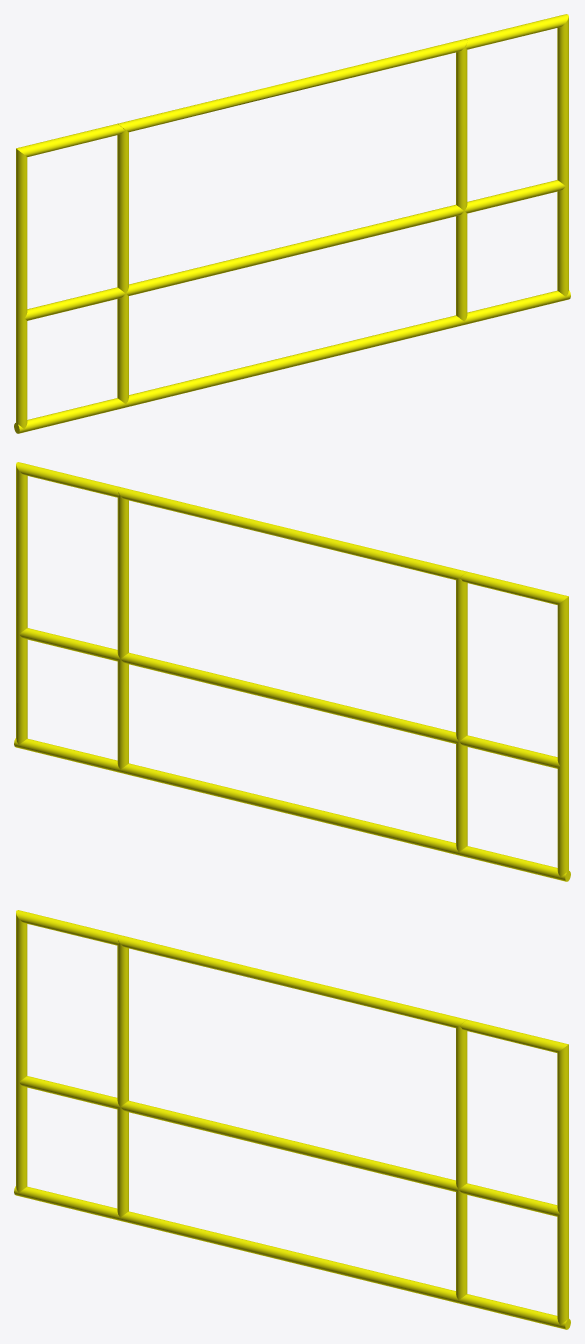
The picture shows the model from 3 angles, top to bottom: view 1: azimuth 30°, elevation 25°; view 2: azimuth 150°, elevation 25°; view 3: azimuth 330°, elevation 25°; orthographic projection.
Visible parts, largest first — view 1: grade008; view 2: grade008; view 3: grade008.
Boxes of the visible parts, <box> form: grade008: <box>14,14,570,433</box>; grade008: <box>14,462,570,881</box>; grade008: <box>14,910,570,1329</box>.
Bounding box in the file's own units: 169 × 83.11 × 3.01.
